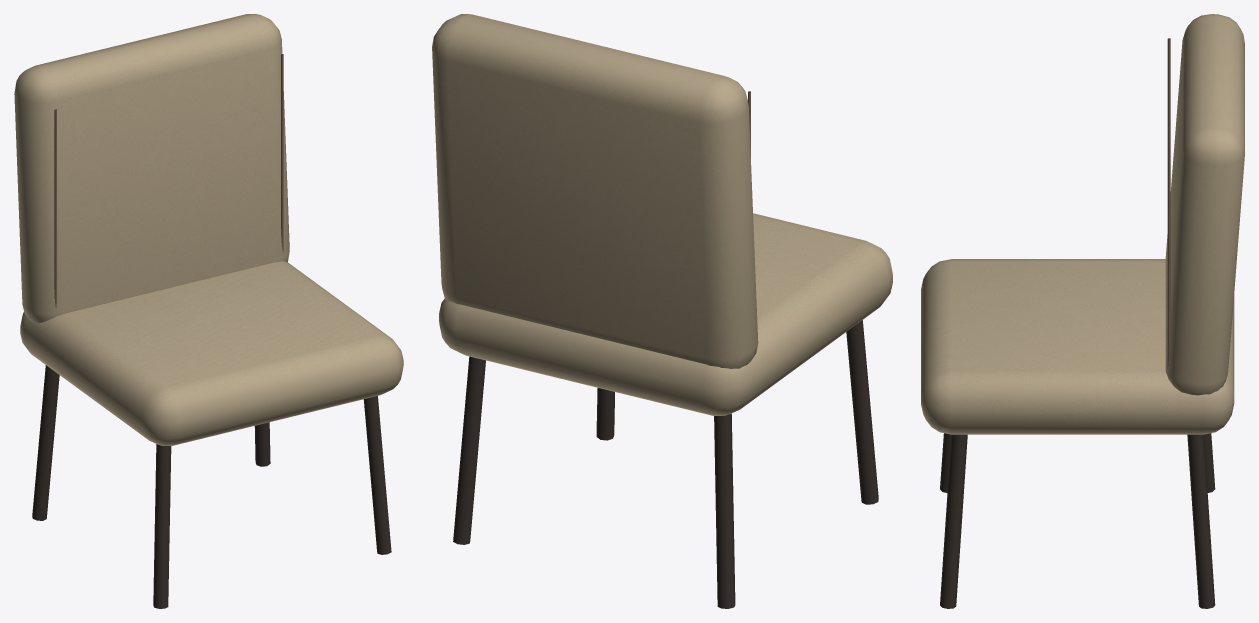
Rendered from guest-chair-v1.glb.
The picture shows the model from 3 angles, left to right: view 1: azimuth 30°, elevation 25°; view 2: azimuth 150°, elevation 25°; view 3: azimuth 270°, elevation 25°; orthographic projection. The views are drawn at different scales.
Parts seen in each view (by area): view 1: Tapered bronze leg; view 2: Tapered bronze leg; view 3: Tapered bronze leg.
Boxes of the visible parts, x1,y1,x2,y2 form: Tapered bronze leg: (14, 14, 403, 608); Tapered bronze leg: (432, 14, 892, 608); Tapered bronze leg: (921, 14, 1244, 608).
Size of the model in its own units: 0.66 by 1.09 by 0.6724.
Materials: 3 (1 with a texture image).
